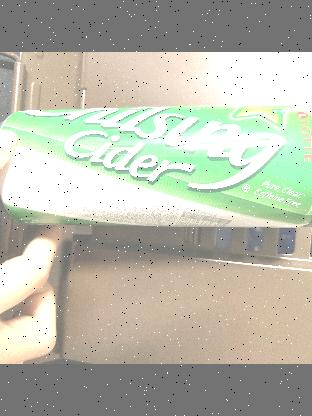Can: (0, 102, 312, 232)
